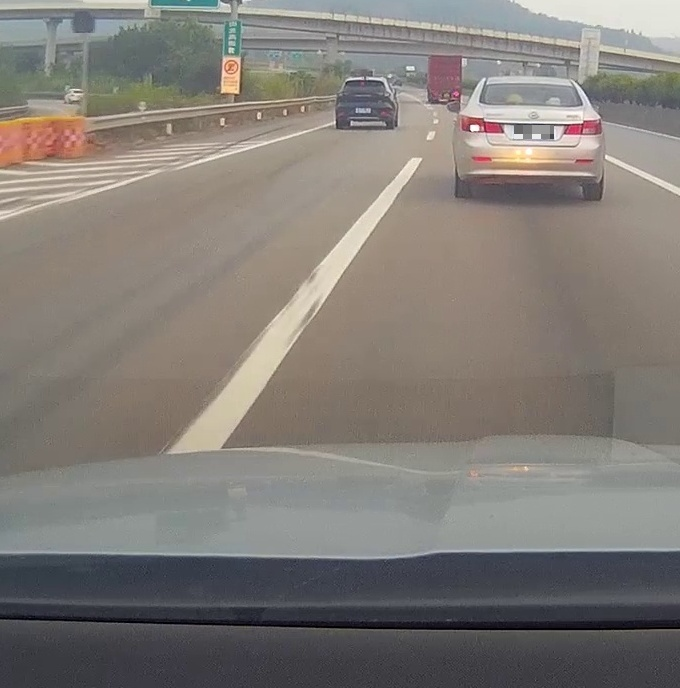L_light: (461, 116, 503, 133), (338, 91, 350, 97)
R_light: (564, 119, 602, 135), (377, 90, 390, 97)
T_light: (522, 100, 542, 104), (360, 80, 370, 82)
day-left: (453, 76, 605, 200)
day-no: (335, 76, 395, 129)
plate_1: (514, 125, 554, 139)
